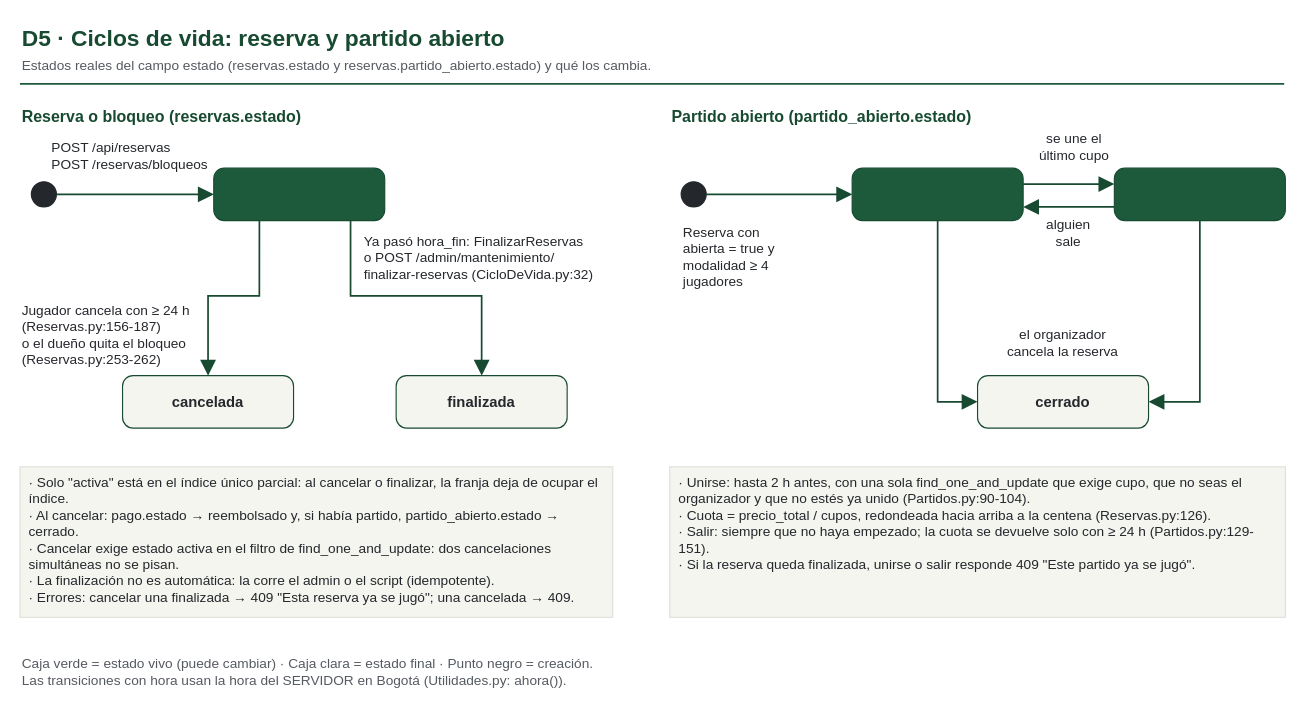
This 1306x714 diagram has some shape labels left out. Each missing label, with the centre of its shape:
"abierto" goes at (937,194).
"activa" goes at (299,194).
"completo" goes at (1199,194).
